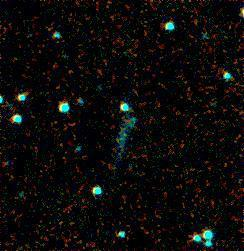star: (113, 106, 143, 136)
